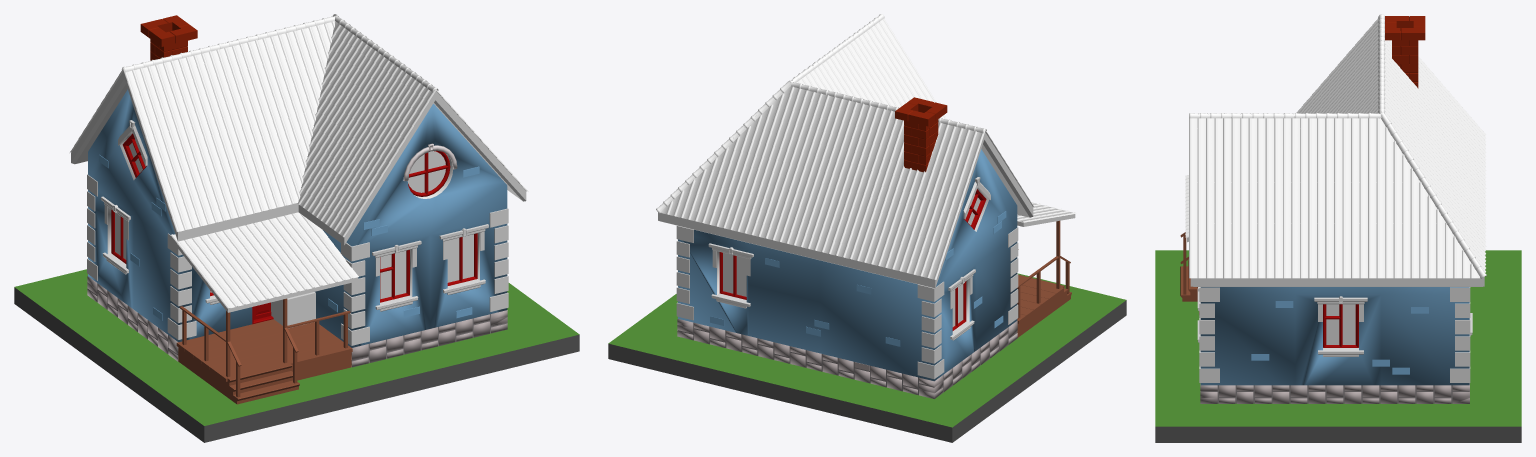
File: csaladihaz.glb
The picture shows the model from 3 angles, left to right: view 1: azimuth 30°, elevation 25°; view 2: azimuth 150°, elevation 25°; view 3: azimuth 270°, elevation 25°; orthographic projection. The views are drawn at different scales.
Visible parts, largest first — view 1: Cube.006, Плоскость.001, Куб, Куб.050, Cube.001, Cube.005, Куб.051, Куб.052, Куб.054, Куб.065, Cube.002, Куб.064 (+3 smaller); view 2: Cube.006, Плоскость.001, Cube.005, Куб.050, Cube.001, Куб.065, Куб, Куб.051, Куб.052, Куб.064, Куб.054, Cube.003; view 3: Плоскость.001, Cube.006, Cube.005, Куб.050, Cube.001, Куб.065, Куб.051, Куб.052, Куб.064, Куб.
Boxes of the visible parts, bbox=[...] form: Cube.006: bbox=[88, 89, 507, 360]; Плоскость.001: bbox=[14, 269, 579, 442]; Куб: bbox=[176, 319, 352, 404]; Куб.050: bbox=[87, 174, 508, 345]; Cube.001: bbox=[71, 71, 526, 245]; Cube.005: bbox=[87, 276, 507, 367]; Куб.051: bbox=[111, 209, 477, 302]; Куб.052: bbox=[101, 196, 488, 311]; Куб.054: bbox=[179, 298, 350, 397]; Куб.065: bbox=[140, 15, 197, 60]; Cube.002: bbox=[407, 150, 450, 196]; Куб.064: bbox=[99, 154, 479, 320]; Cube.006: bbox=[678, 149, 1017, 381]; Плоскость.001: bbox=[608, 273, 1126, 442]; Cube.005: bbox=[677, 319, 1017, 398]; Куб.050: bbox=[676, 225, 1018, 379]; Cube.001: bbox=[658, 93, 1033, 288]; Куб.065: bbox=[895, 97, 947, 172]; Куб: bbox=[1017, 274, 1071, 337]; Куб.051: bbox=[719, 252, 966, 330]; Куб.052: bbox=[708, 243, 975, 340]; Куб.064: bbox=[710, 211, 1006, 346]; Куб.054: bbox=[1017, 220, 1070, 318]; Cube.003: bbox=[963, 177, 990, 229]; Плоскость.001: bbox=[1155, 250, 1521, 442]; Cube.006: bbox=[1200, 287, 1469, 385]; Cube.005: bbox=[1200, 383, 1469, 403]; Куб.050: bbox=[1199, 287, 1470, 382]; Cube.001: bbox=[1190, 222, 1484, 286]; Куб.065: bbox=[1385, 16, 1425, 88]; Куб.051: bbox=[1323, 304, 1358, 347]; Куб.052: bbox=[1197, 287, 1472, 356]; Куб.064: bbox=[1251, 301, 1428, 374]; Куб: bbox=[1180, 260, 1199, 314].
Bounding box in the file's own units: 8.15 × 6.83 × 7.15.
